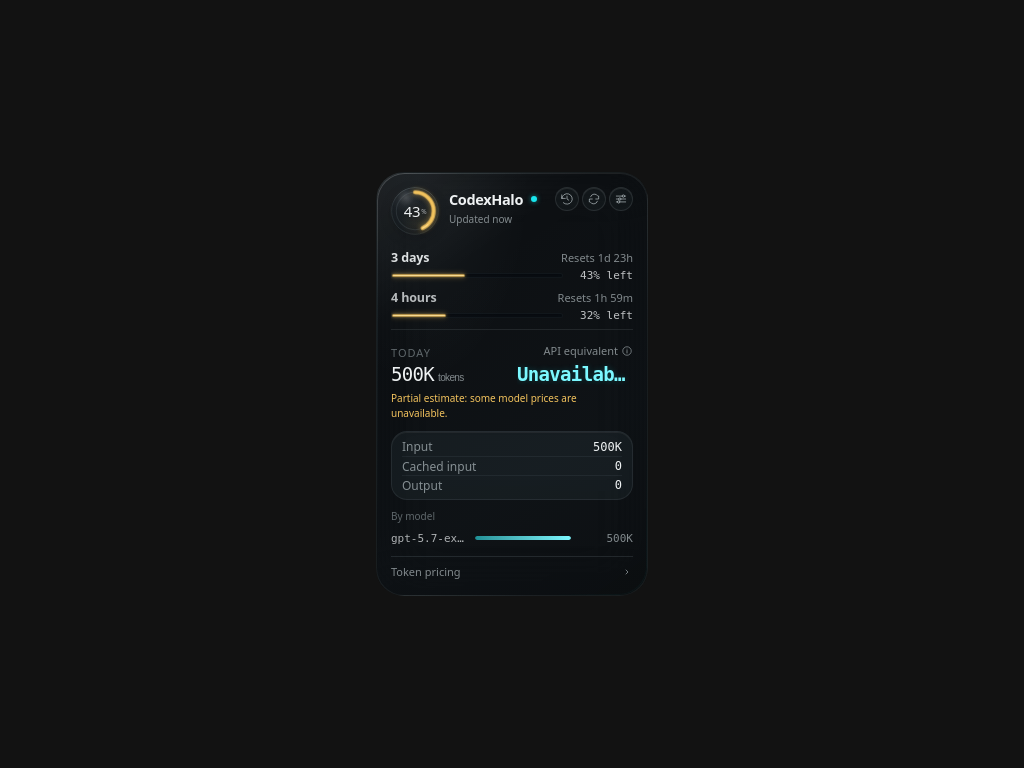
Test case: ExpandedPanel quota windows › displays an unknown future model ID and excludes it from the priced subtotal
Expected: the text "gpt-5.7-example" is shown, x1=391 y1=532 x2=467 y2=544
Expected: the text "Unavailable" is shown, x1=517 y1=363 x2=633 y2=385
Hover over the button "API equivalent": coordinates (588, 350) x1=544 y1=343 x2=633 y2=358
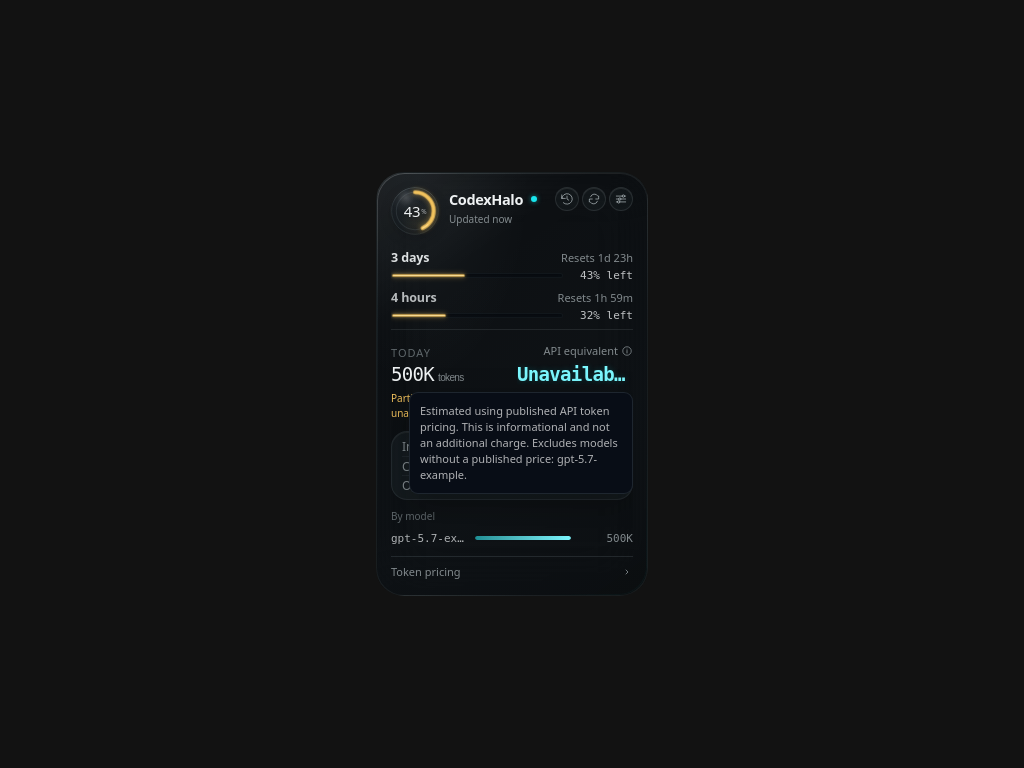
Expected: the text "Excludes models without a published price: gpt-5.7-example" is shown, x1=420 y1=435 x2=618 y2=482
